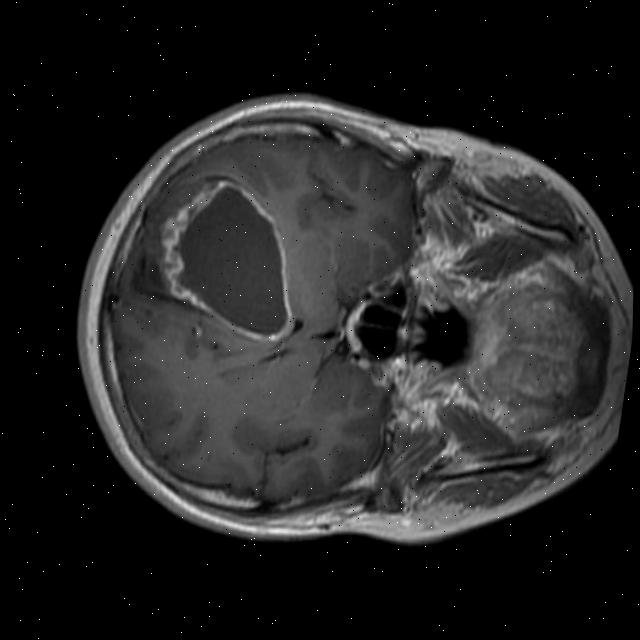Glioma: (144, 171, 312, 347)
